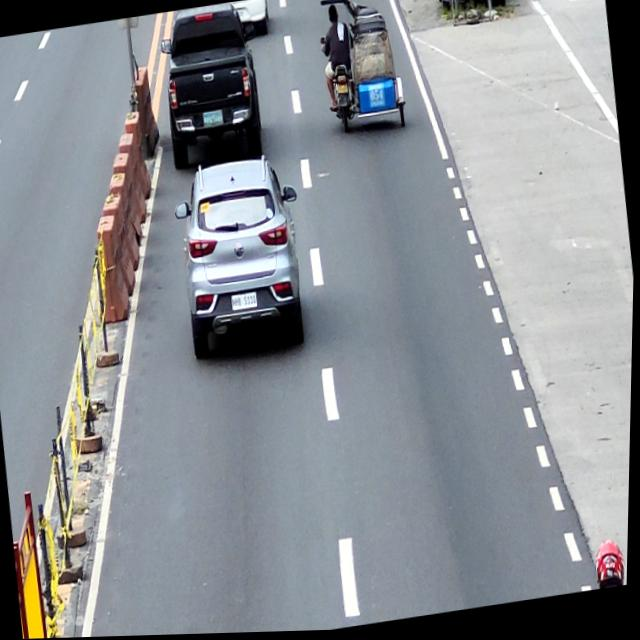Car: (168, 152, 317, 367), (154, 0, 272, 175)
License-Plate: (232, 293, 259, 311), (202, 110, 224, 130), (336, 83, 349, 96)
Tricycle: (314, 0, 409, 139)
